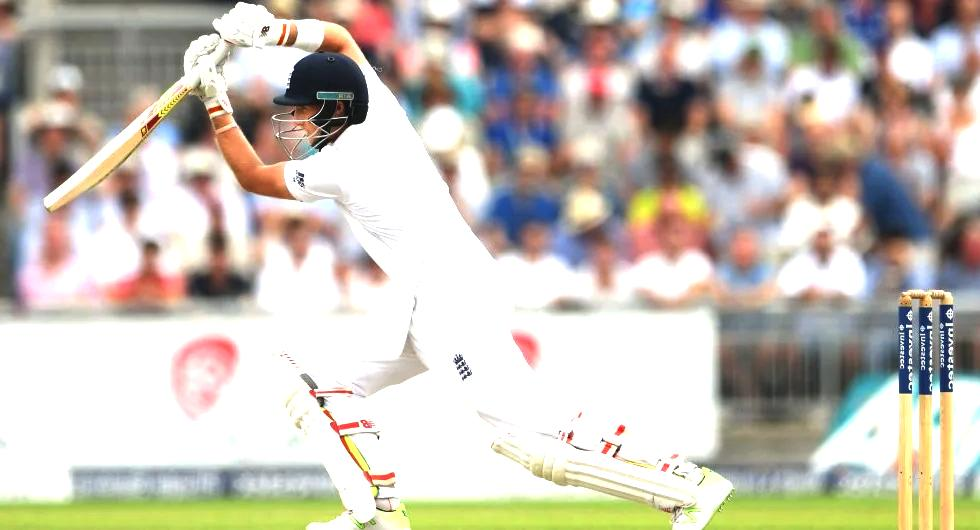batsman: (4, 2, 768, 527)
